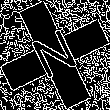N_SE: (26, 24, 84, 86)
